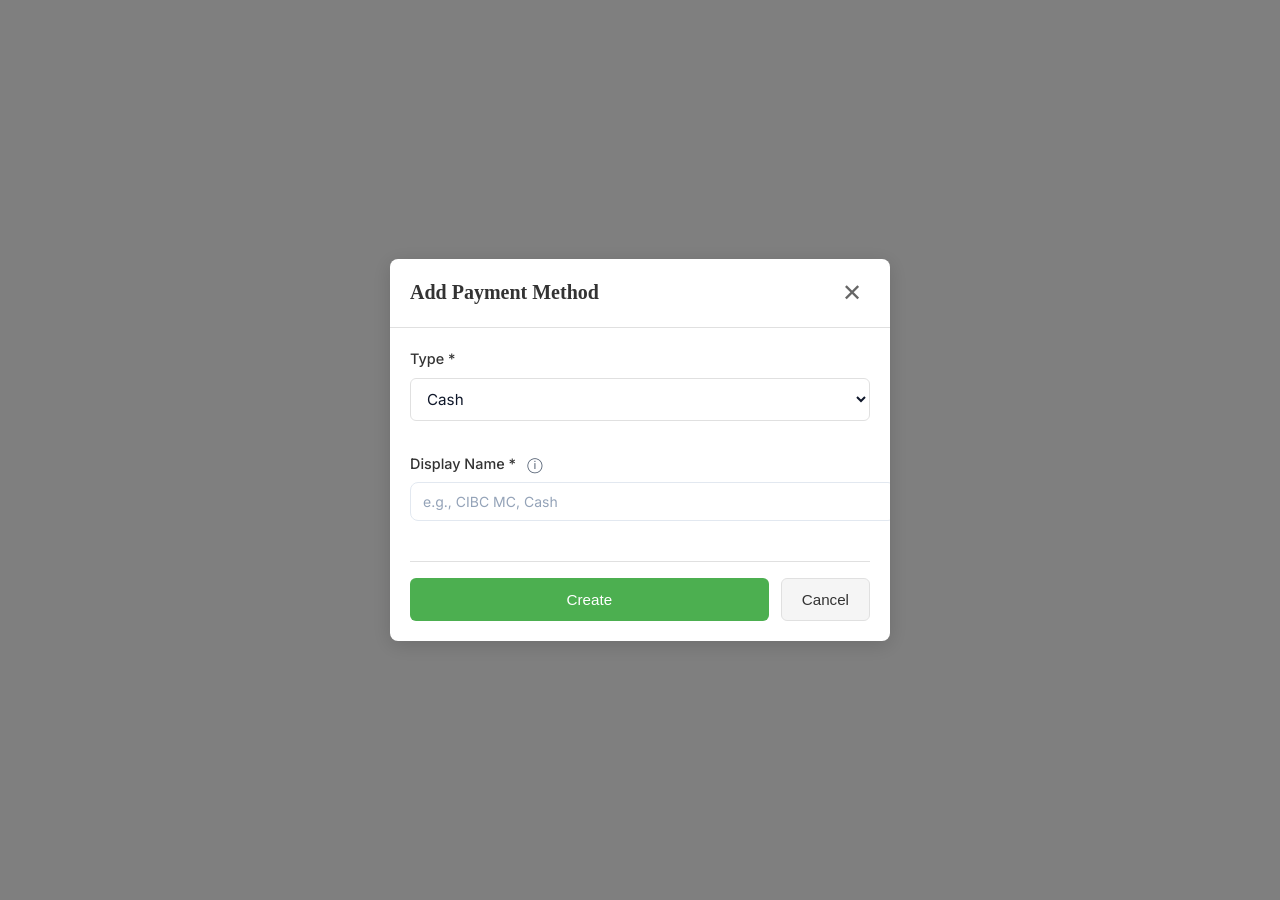
Test: Financial Overview Preservation Tests › Property 2.2: PaymentMethodForm Submission Preservation › should validate required fields before submission
This screenshot has width=1280, height=900.
# Try to submit without filling required fields
Click the button "Create": click(589, 600) 410,578 -> 769,621
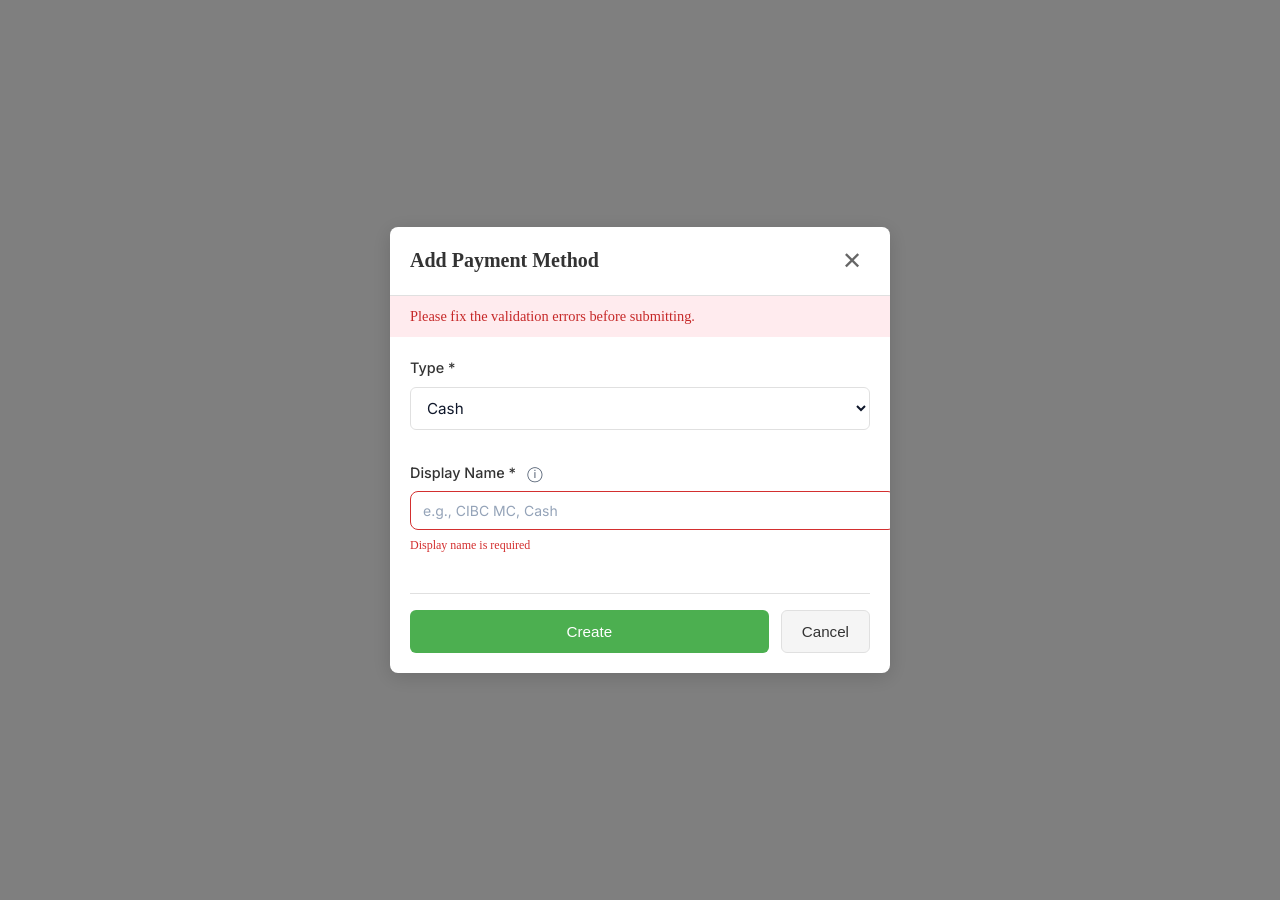
Now the text "Display name is required" is shown, box 410,538 -> 530,552
